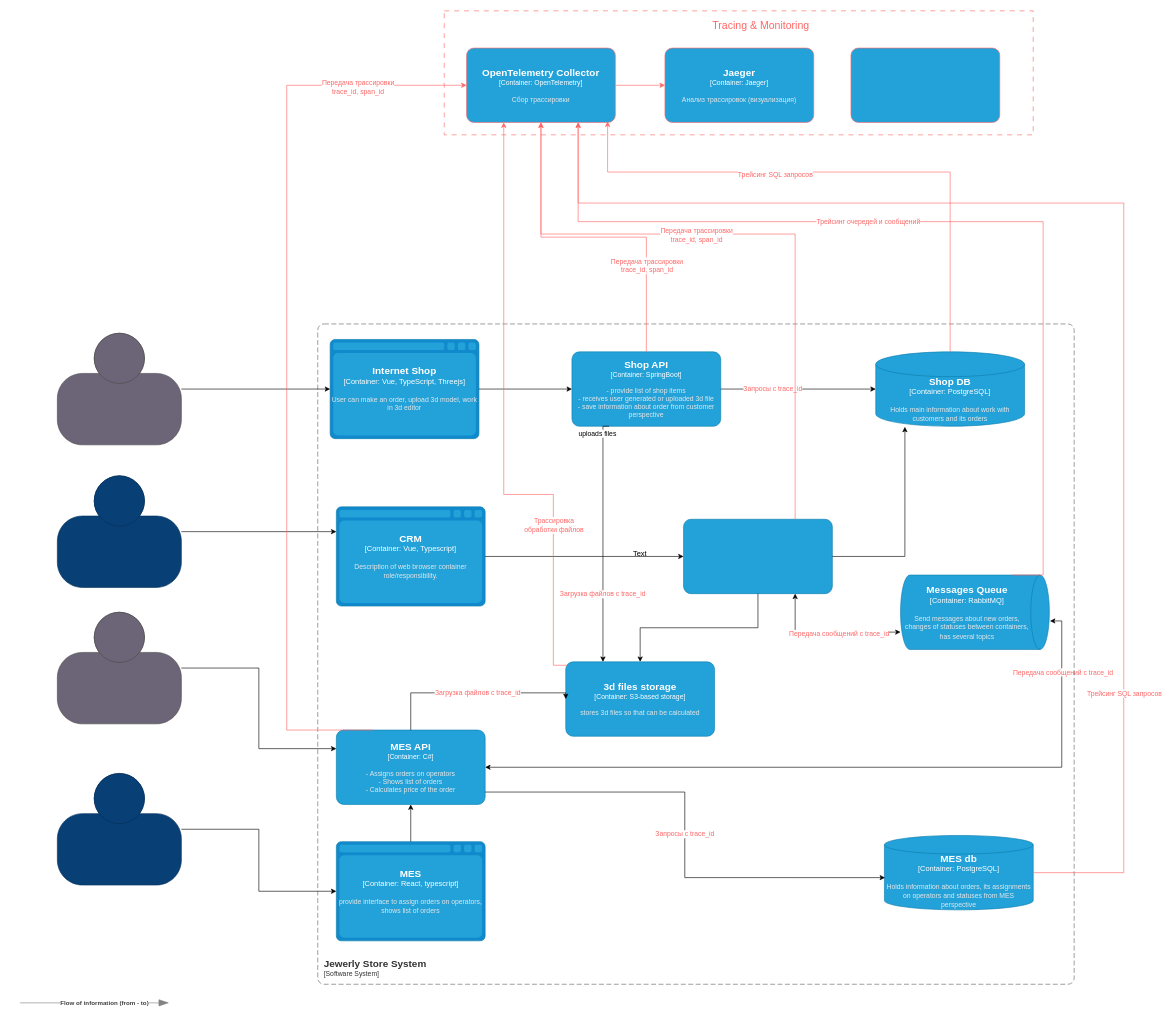
This 1172x1024 diagram has some shape labels left out. The centre of each missing label's shape, as x and y in pixels:
"API user [Person] Description of external person." belongs at point 119,668.
"CRM API [Container: SpringBoot] Description of container role/responsibility." belongs at point 757,556.
"Customer [Person] Description of external person." belongs at point 119,389.
"ELK [Container: ELK] Хранение трейсов, логов, метрик" belongs at point 925,84.
"Operator [Person] Takes order in work, manufactures jewerly" belongs at point 119,829.
"Seller [Person] Operates with order, confirms manufacturing for the user" belongs at point 119,531.
